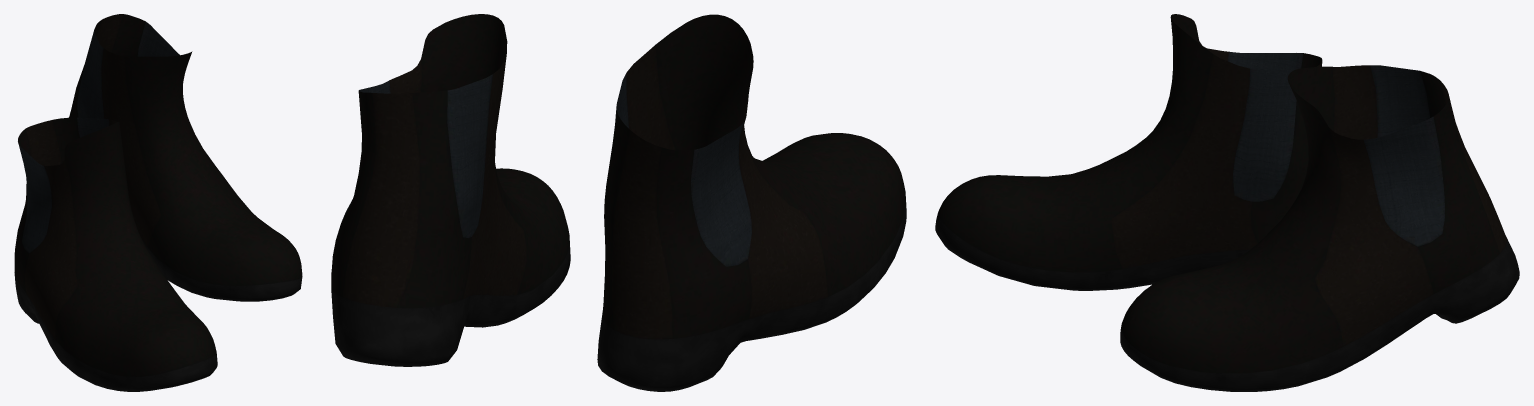
3 views of the same model, side by side, from view 1: azimuth 30°, elevation 25°; view 2: azimuth 150°, elevation 25°; view 3: azimuth 270°, elevation 25° (orthographic). The views are drawn at different scales.
Parts seen in each view (by area): view 1: BootLP; view 2: BootLP; view 3: BootLP.
Part boxes in pixels (box(x1,y1,x2,y2)): BootLP: box(14, 14, 302, 391); BootLP: box(331, 14, 906, 391); BootLP: box(935, 14, 1519, 391).
Size of the model in its own units: 21.91 by 17.94 by 34.72.
Materials: 1 (1 with a texture image).
